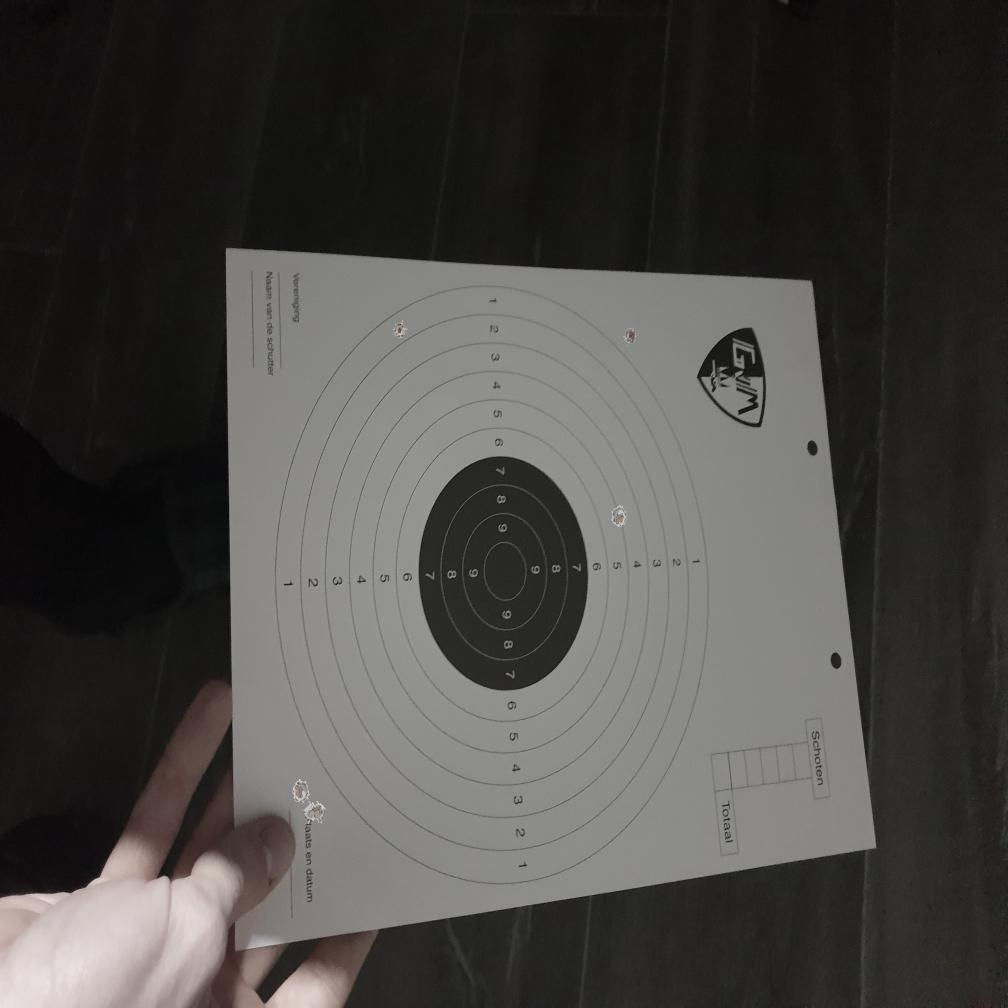0: (293, 780, 309, 804), (624, 327, 637, 346), (315, 803, 325, 824), (305, 803, 315, 822)
1: (394, 321, 407, 338)
5: (611, 504, 628, 528)
Target: (274, 284, 712, 891)
black_contour: (419, 455, 588, 693)
